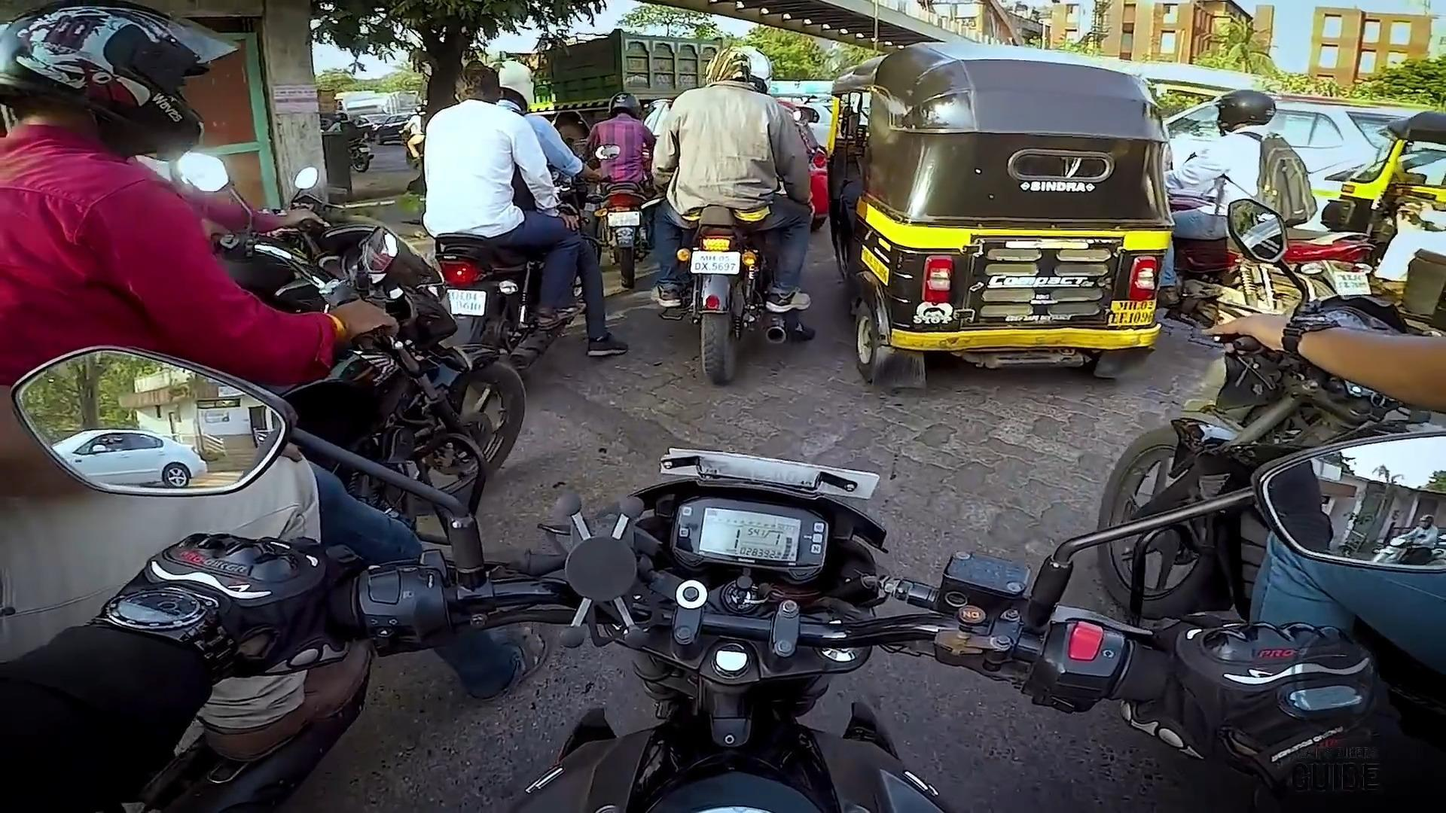Helmet: (0, 0, 242, 176), (489, 54, 548, 119), (718, 38, 783, 94), (1214, 83, 1282, 135), (602, 85, 649, 123)
bike: (0, 146, 527, 513), (428, 141, 622, 361), (673, 107, 811, 387), (1157, 177, 1384, 346), (584, 155, 665, 284)
no-helmet: (693, 39, 757, 99), (451, 58, 510, 111)
number-plate: (687, 250, 740, 275)
rider: (652, 42, 816, 313), (418, 58, 586, 322), (487, 57, 625, 357), (1162, 87, 1303, 299), (583, 88, 662, 205)
